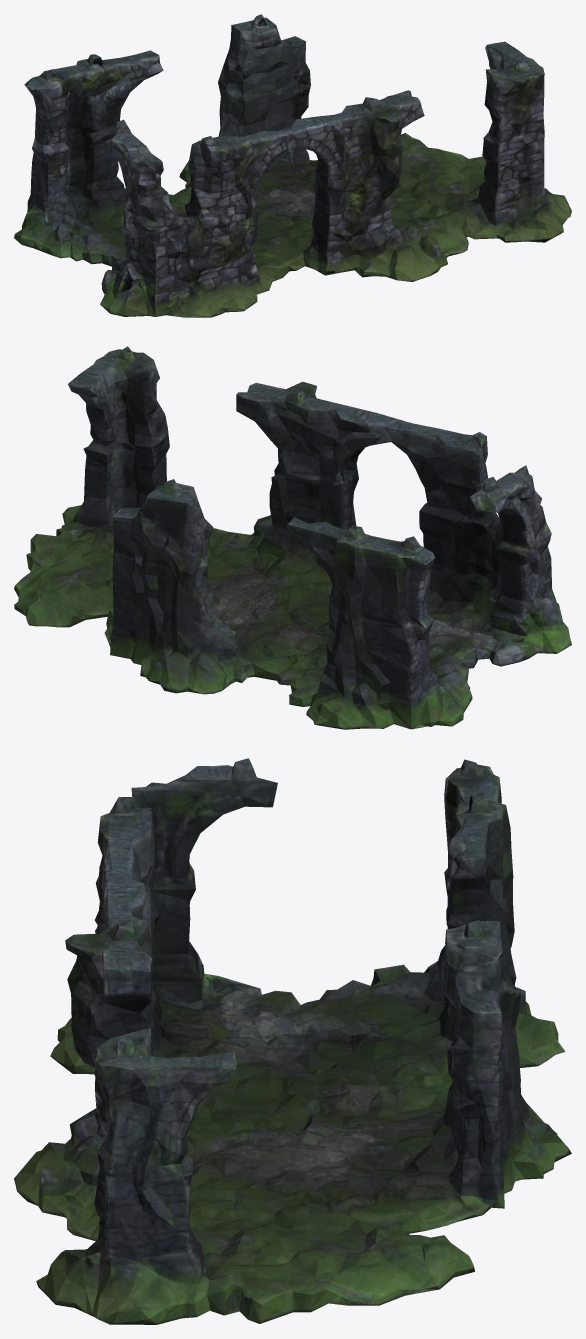
Rendered from ruin_wall_broken_a_lod0.glb.
3 renders of one model, top to bottom at view 1: azimuth 30°, elevation 25°; view 2: azimuth 150°, elevation 25°; view 3: azimuth 270°, elevation 25°, orthographic. The views are drawn at different scales.
Visible parts, largest first — view 1: ruin_wall_broken_a_lod0; view 2: ruin_wall_broken_a_lod0; view 3: ruin_wall_broken_a_lod0.
Boxes of the visible parts, x1,y1,x2,y2 form: ruin_wall_broken_a_lod0: (14, 14, 571, 317); ruin_wall_broken_a_lod0: (14, 346, 571, 729); ruin_wall_broken_a_lod0: (14, 758, 571, 1324).
Bounding box in the file's own units: 5.99 × 2.03 × 4.04.
1 material, 1 textured.
